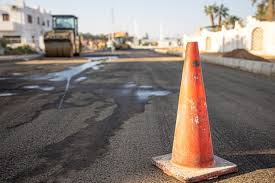obstacle: (158, 38, 238, 182)
